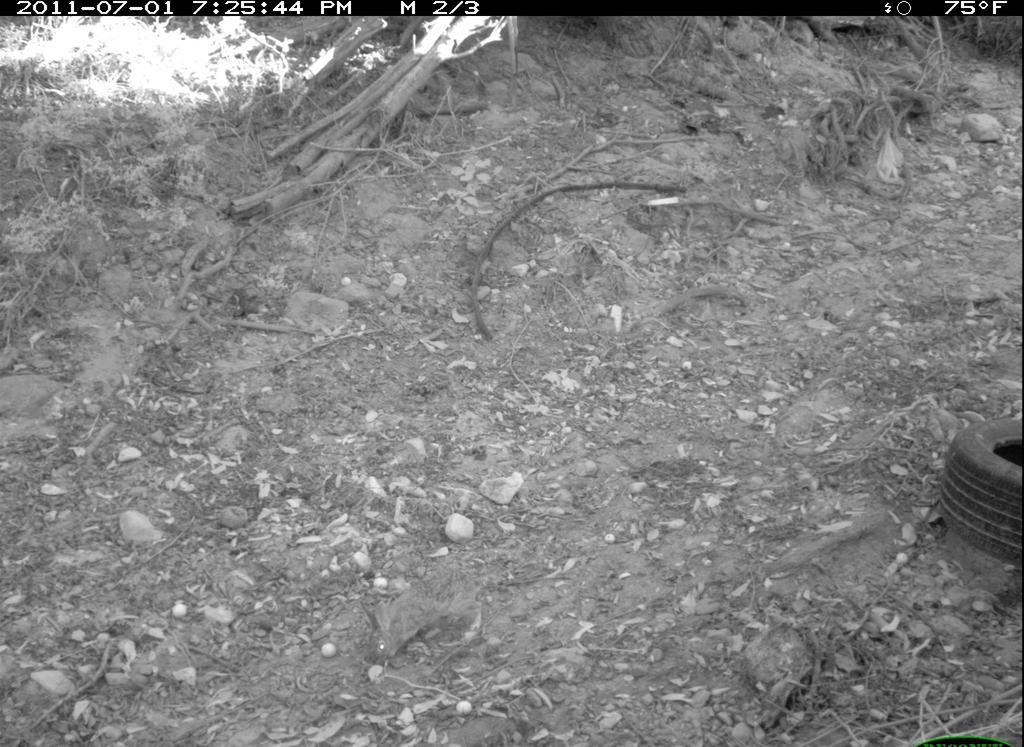rabbit: (360, 568, 490, 671)
